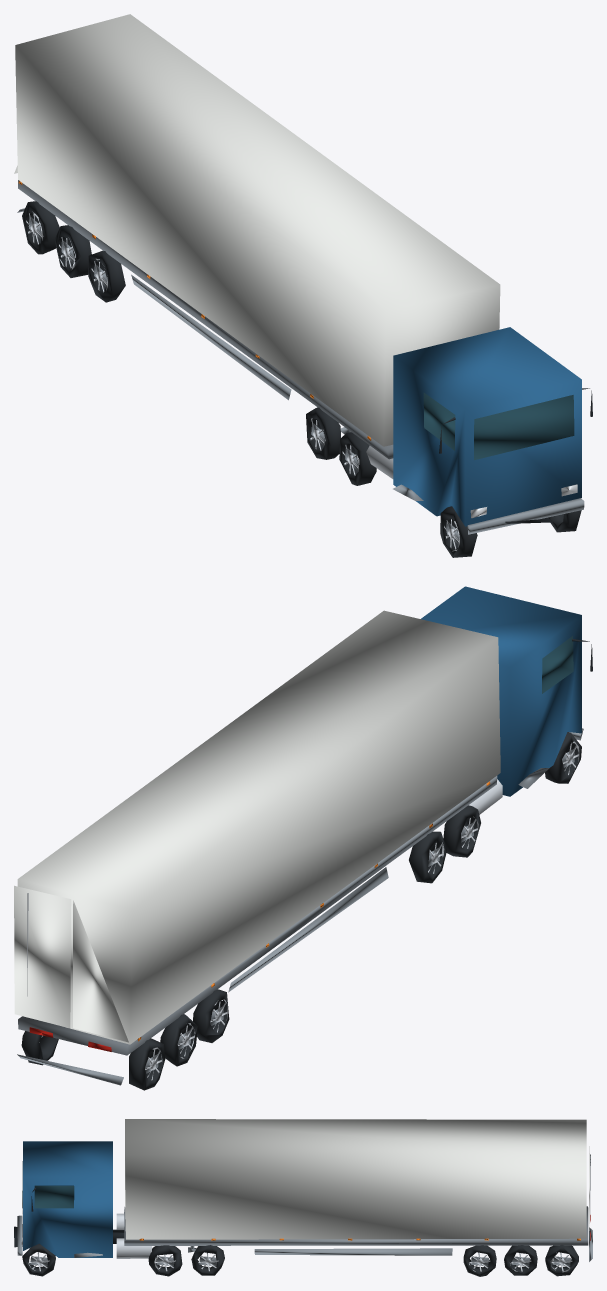
Rendered from truck-lod2.glb.
The picture shows the model from 3 angles, top to bottom: view 1: azimuth 30°, elevation 25°; view 2: azimuth 150°, elevation 25°; view 3: azimuth 270°, elevation 25°; orthographic projection. The views are drawn at different scales.
Parts seen in each view (by area): view 1: body_white, body_blue, wheelpart_rubber (×6), body_steel, body_glass; view 2: body_white, body_blue, wheelpart_rubber (×7), body_steel, body_glass, body_chrome; view 3: body_white, body_blue, body_steel, wheelpart_rubber (×6), body_glass, body_chrome, body_black.
Part boxes in pixels (x1,y1,x2,y2): body_white: (14, 14, 500, 446); body_blue: (393, 327, 581, 526); wheelpart_rubber (×6): (22, 201, 477, 557); body_steel: (17, 180, 584, 534); body_glass: (423, 392, 574, 460); body_white: (14, 610, 500, 1044); body_blue: (421, 586, 581, 796); wheelpart_rubber (×7): (21, 732, 581, 1090); body_steel: (17, 728, 583, 1085); body_glass: (542, 636, 573, 693); body_chrome: (27, 779, 502, 996); body_white: (125, 1119, 589, 1239); body_blue: (23, 1141, 112, 1257); body_steel: (17, 1206, 592, 1261); wheelpart_rubber (×6): (22, 1243, 578, 1276); body_glass: (22, 1161, 74, 1208); body_chrome: (116, 1154, 590, 1258); body_black: (14, 1188, 124, 1247).
Size of the model in its own units: 3.26 by 3.99 by 16.98.
